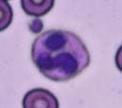N: (31, 29, 89, 80)
